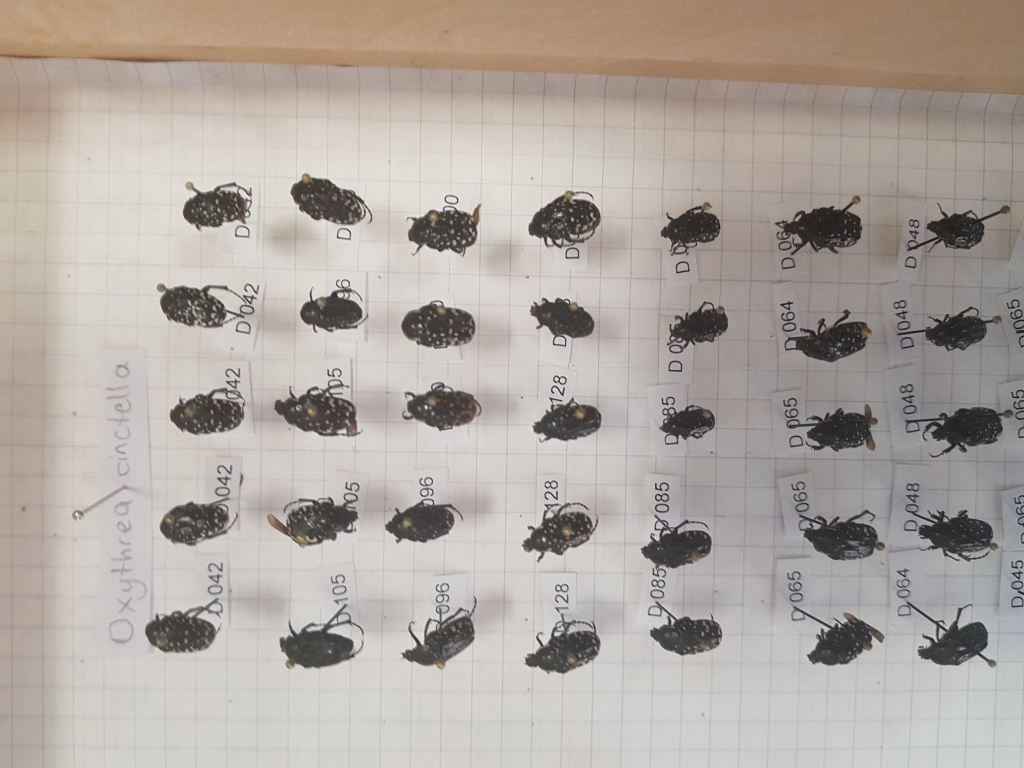Oxythyrea_cinctella: (513, 498, 598, 561), (398, 300, 475, 350)
